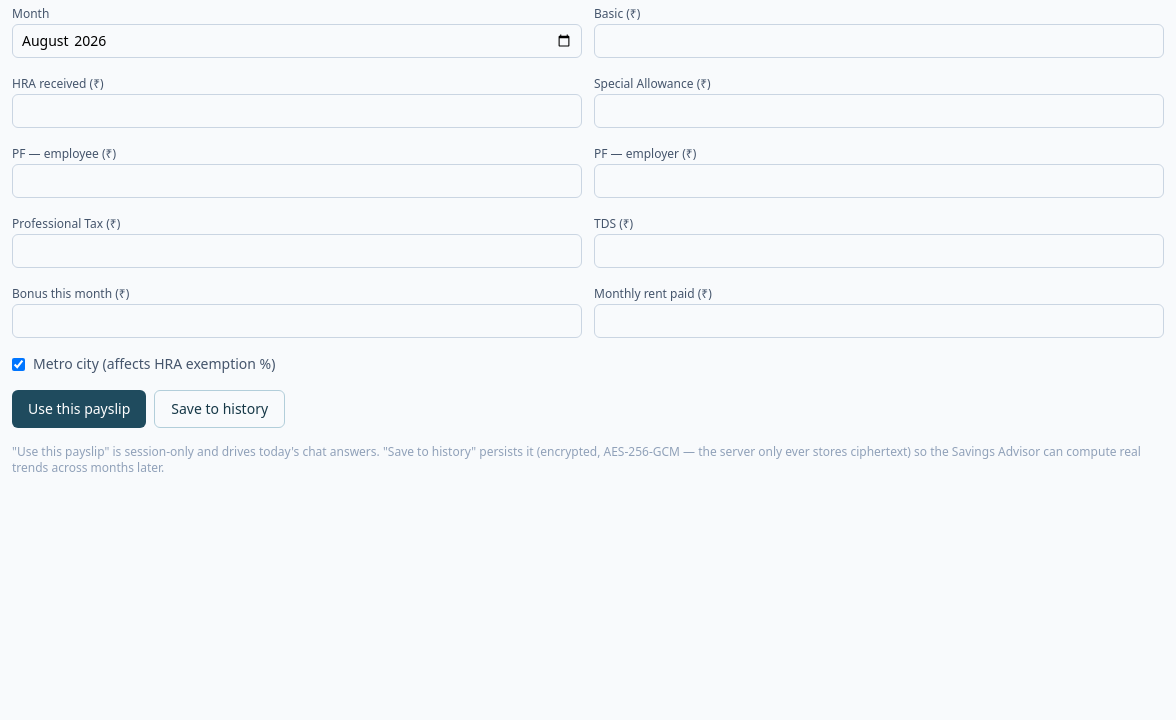
ManualEntryForm › Save to history › shows a real error message for a non-duplicate failure
The width and height of the screenshot is (1176, 720).
Click the button "Save to history" at [220, 409], box x1=154 y1=390 x2=285 y2=428
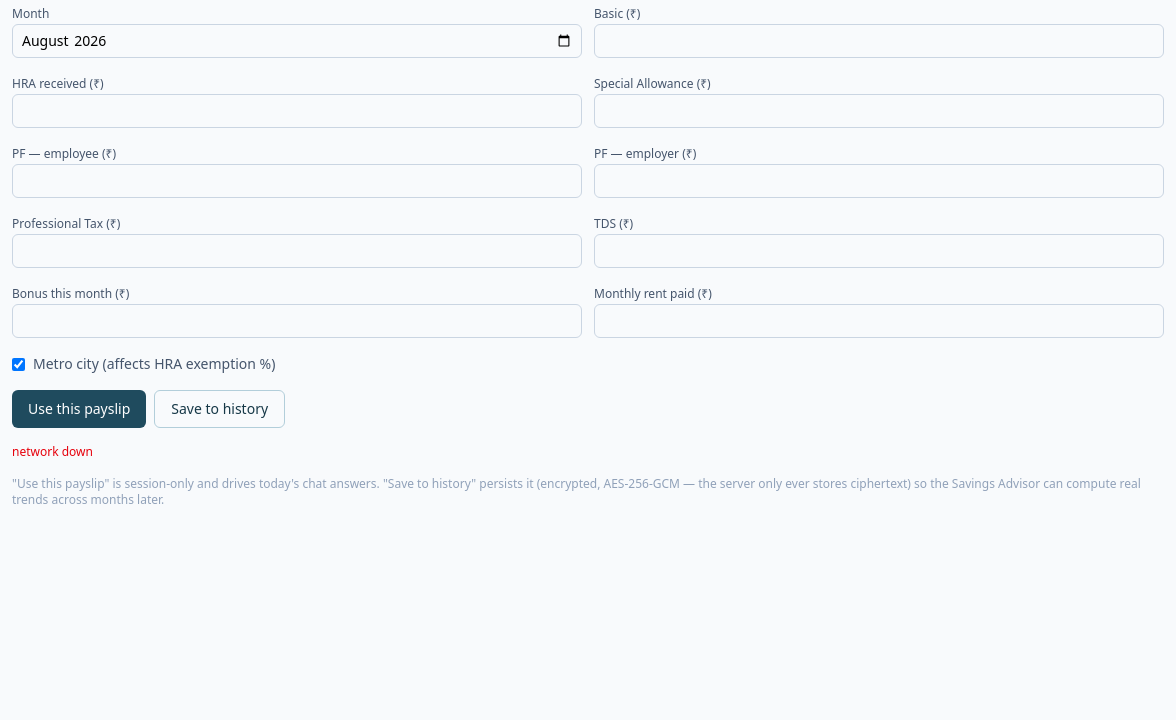
Expected: the text "network down" is shown, x1=12 y1=443 x2=93 y2=460
